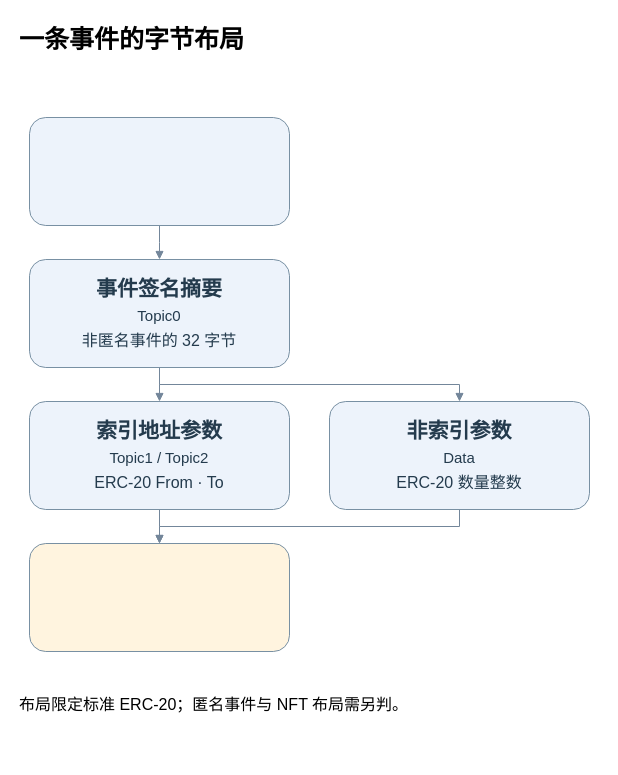
Image size: 618x775. Some labels were removed from this diagram. The shapes that lost their labels are listed below. From the top down, each one's box as (x1, y1, x2, y2) in pixels, then its label:
(28, 116, 290, 226): 发出日志的地址 Emitting Contract 不等于参数 From
(28, 542, 290, 652): 历史定位 Tx Hash / Log Index 同交易可以多条日志
